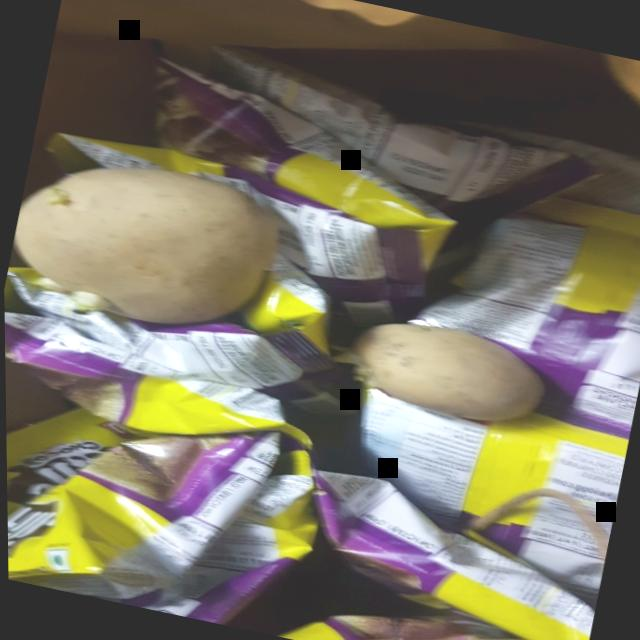potato: (2, 139, 293, 352), (309, 291, 558, 437)
